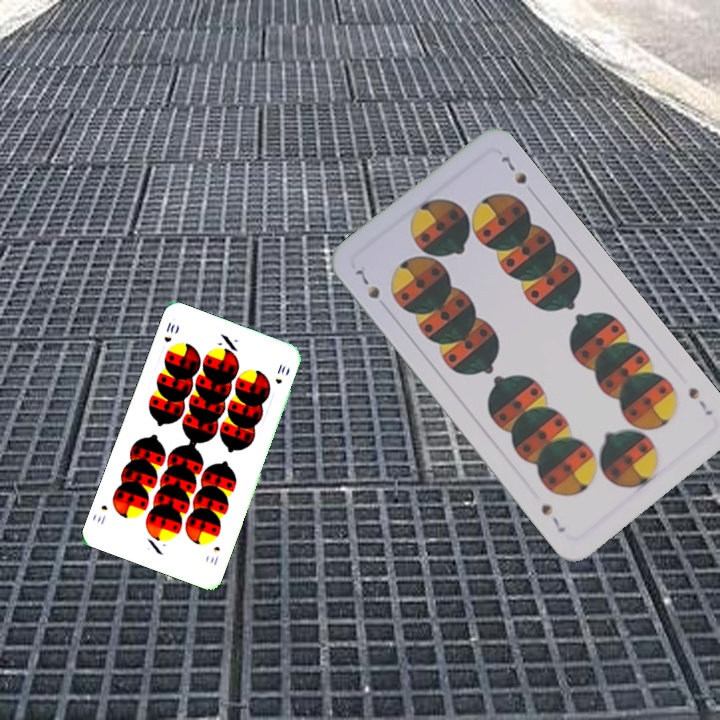S10: (160, 318, 177, 345), (206, 542, 223, 568)
S7: (351, 265, 383, 302), (684, 383, 716, 419)
